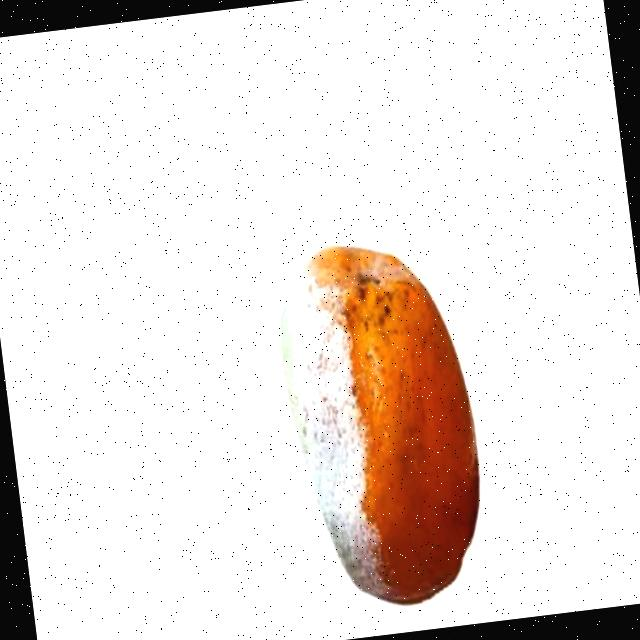rotten orange: (268, 228, 496, 616)
